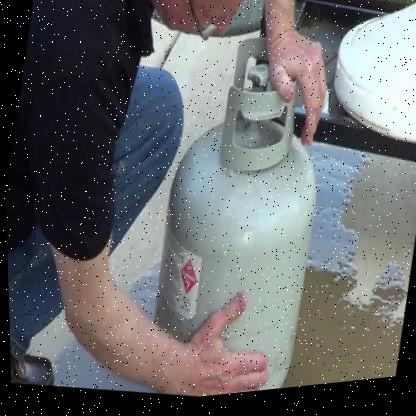gas-tank: (125, 7, 352, 405)
